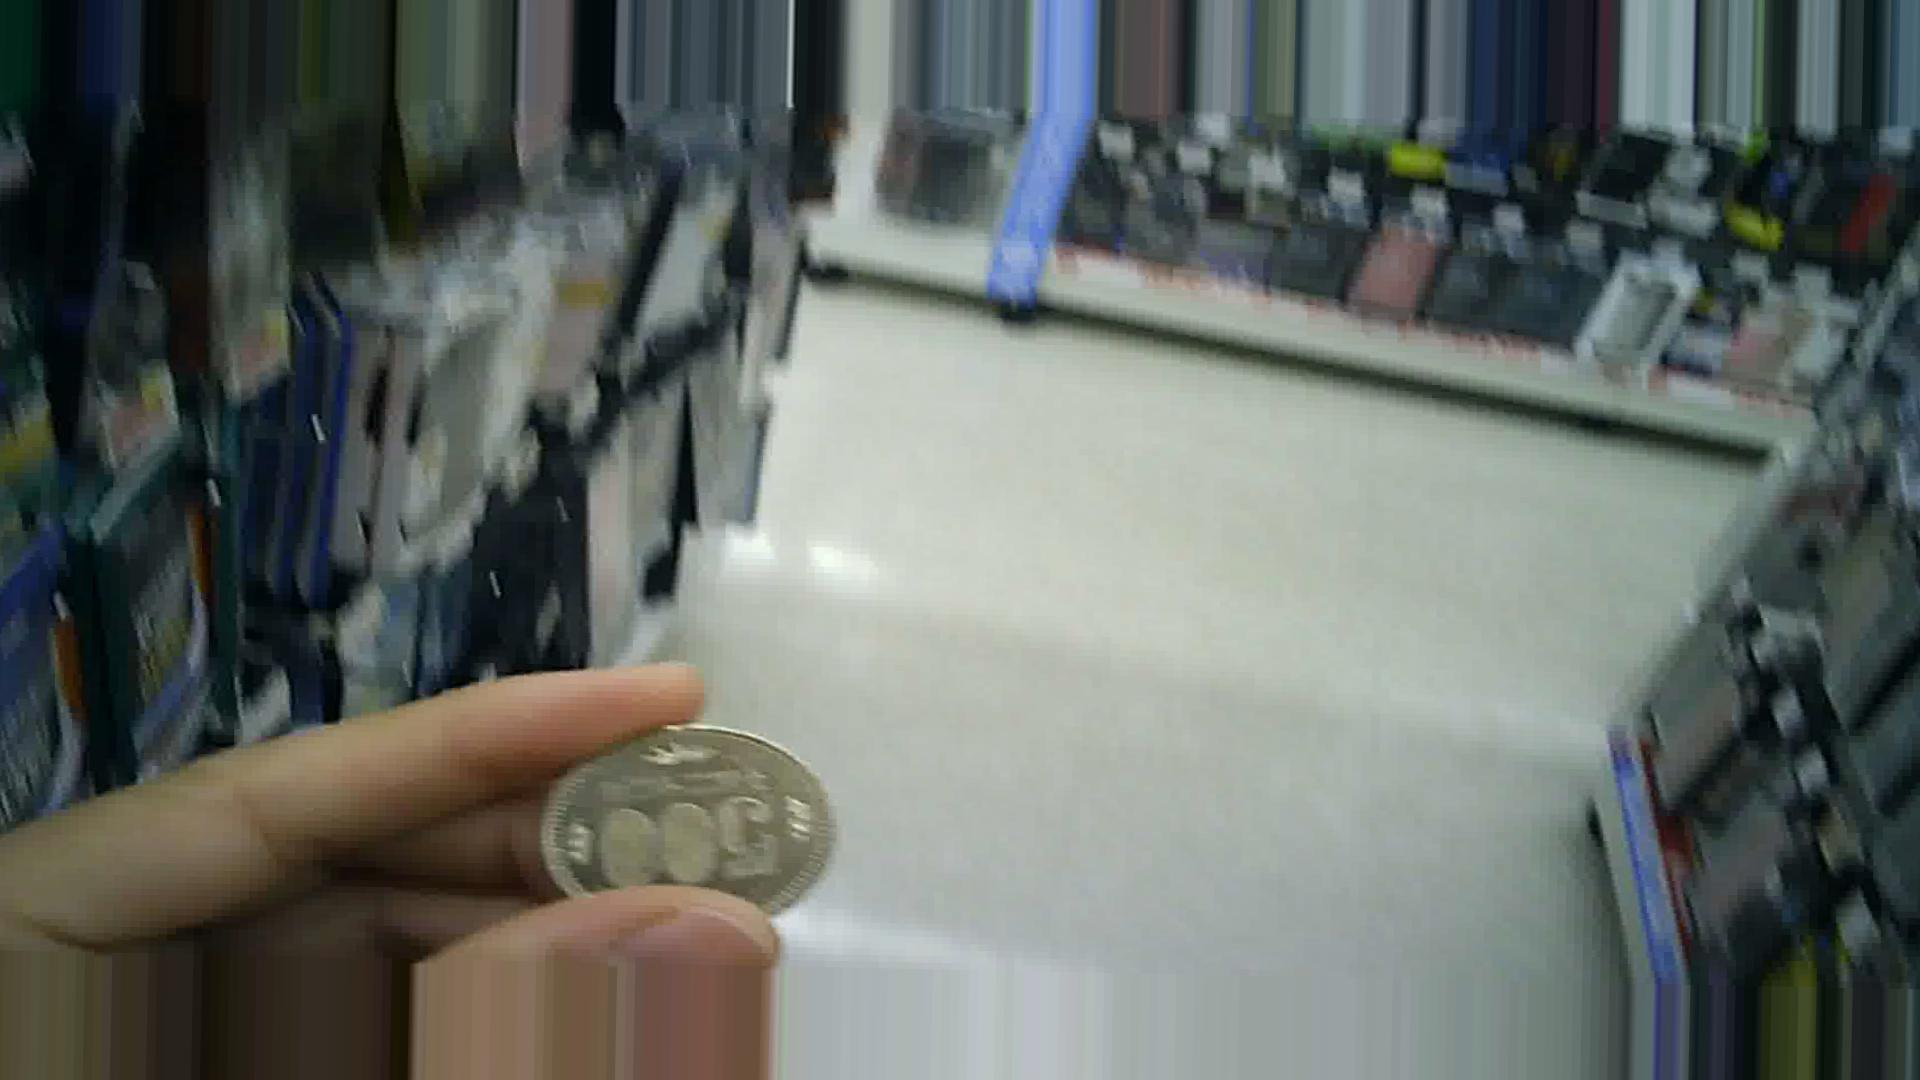500 Yen: (531, 732, 843, 938)
